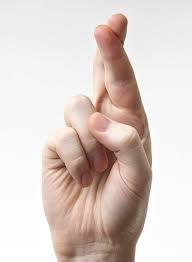Fingers-Crossed: (46, 12, 154, 252)
